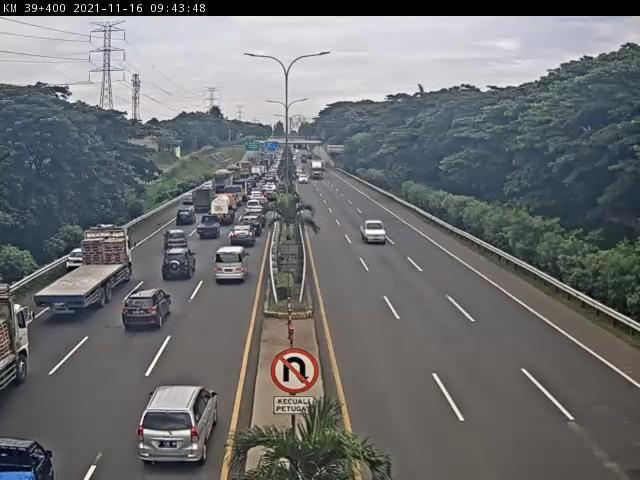car: (141, 385, 218, 466), (1, 436, 55, 480), (122, 289, 173, 333), (216, 246, 251, 284), (157, 254, 195, 289), (166, 234, 194, 261), (361, 221, 387, 246), (196, 217, 220, 242), (231, 227, 255, 252), (241, 216, 263, 236), (175, 210, 197, 229), (249, 209, 269, 225), (68, 252, 84, 271), (247, 200, 265, 214), (178, 196, 194, 208), (249, 193, 265, 202), (300, 178, 307, 185)
truck: (37, 229, 138, 317), (188, 187, 215, 216), (212, 196, 235, 226), (211, 170, 233, 197), (226, 185, 245, 206), (309, 158, 321, 176)
